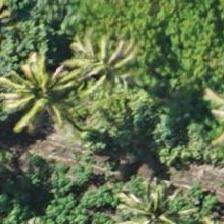coconut_tree: (58, 25, 148, 115), (0, 50, 84, 140)
